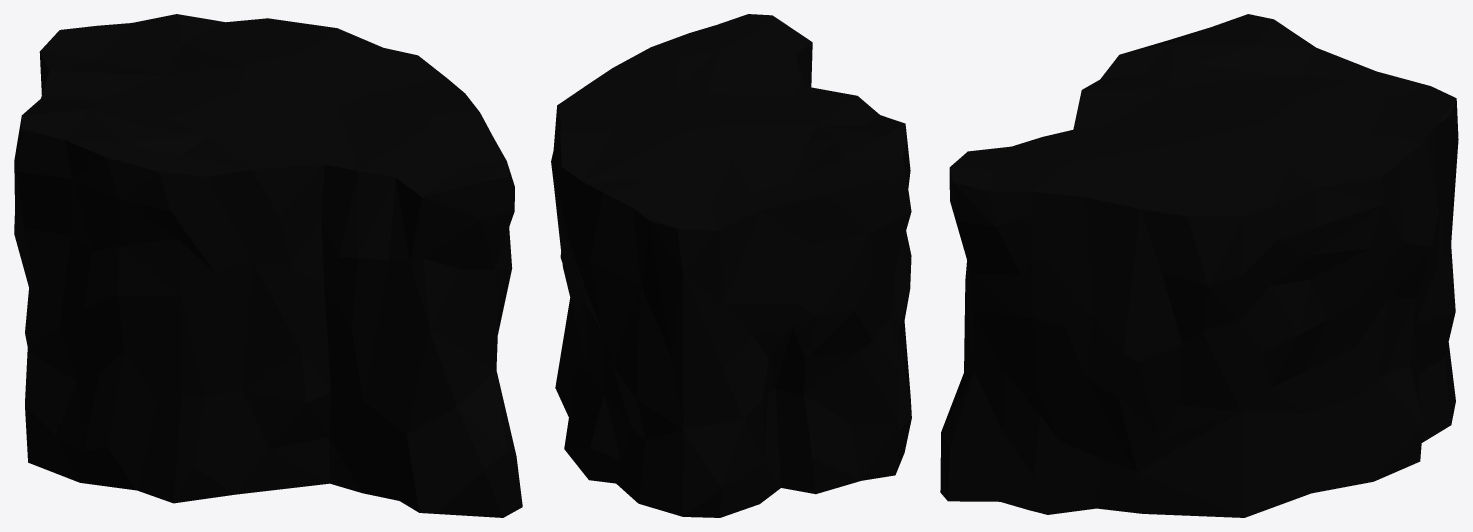
Rendered from rock_cliff.glb.
3 renders of one model, left to right at view 1: azimuth 30°, elevation 25°; view 2: azimuth 150°, elevation 25°; view 3: azimuth 270°, elevation 25°, orthographic. The views are drawn at different scales.
Visible parts, largest first — view 1: Plane; view 2: Plane; view 3: Plane.
Part boxes in pixels (box(x1,y1,x2,y2)): Plane: box(14, 14, 522, 517); Plane: box(551, 14, 911, 517); Plane: box(940, 14, 1458, 517).
Size of the model in its own units: 9.52 by 7.61 by 10.77.
Materials: 2 (2 with a texture image).
